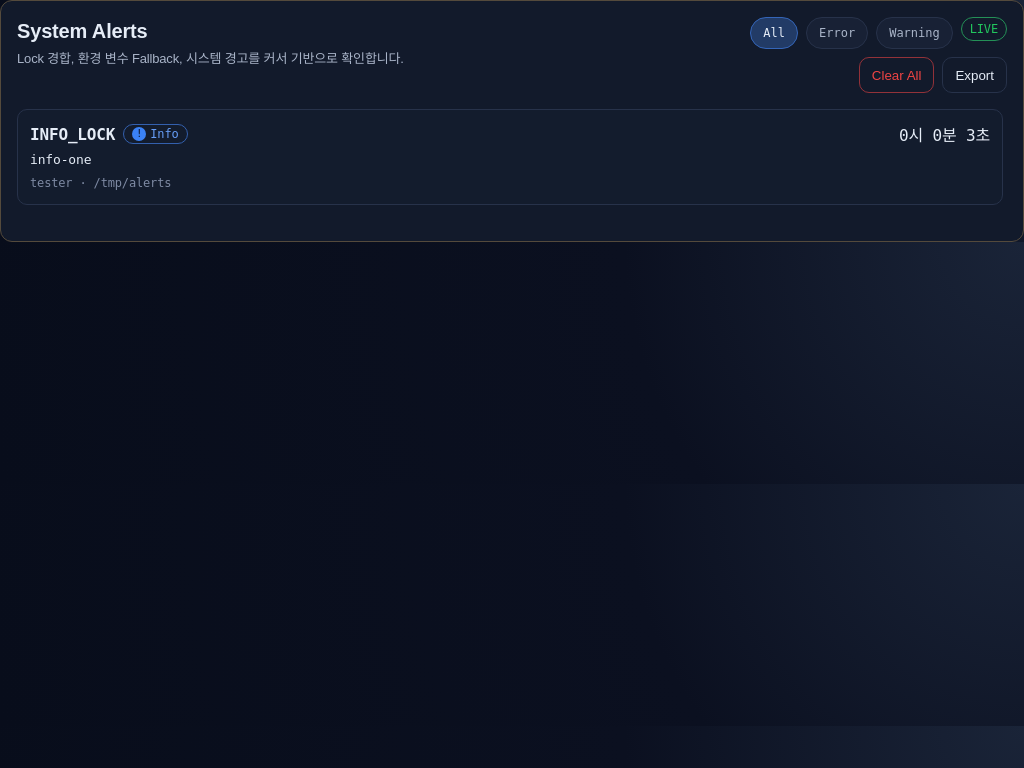
SystemAlertWidget › 필터 결과가 없으면 빈 상태 문구를 보여준다
Click the button "Error": (837, 33) [806,17,868,49]
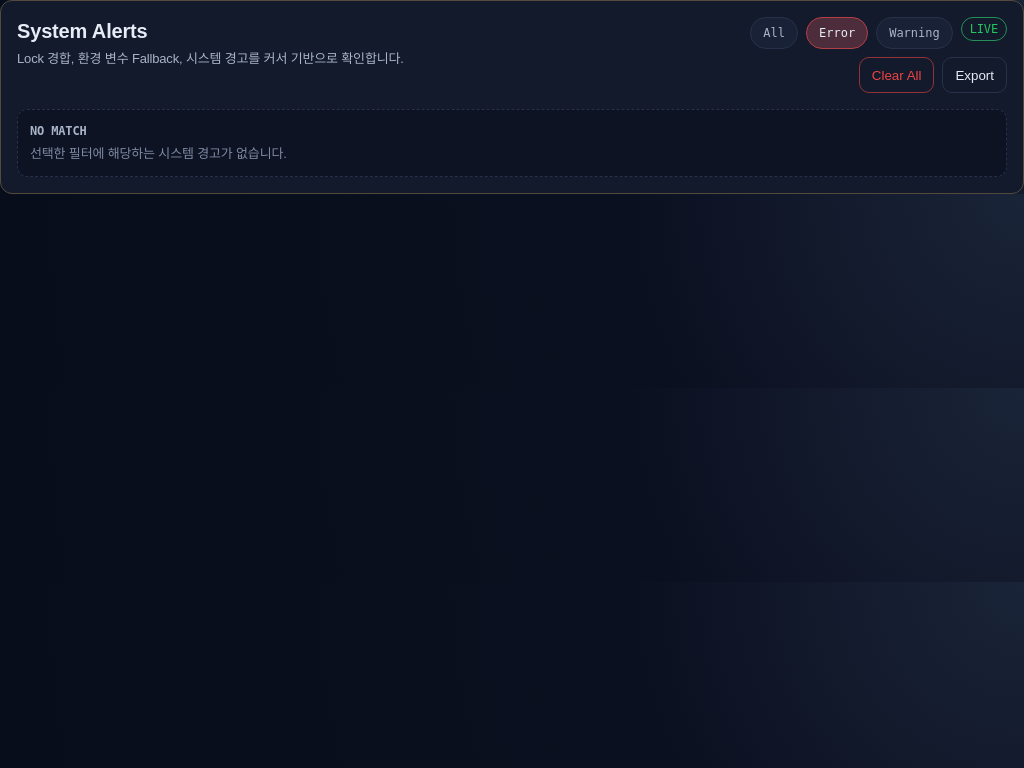
Expected: the text "선택한 필터에 해당하는 시스템 경고가 없습니다." is shown, [30,146,287,161]
